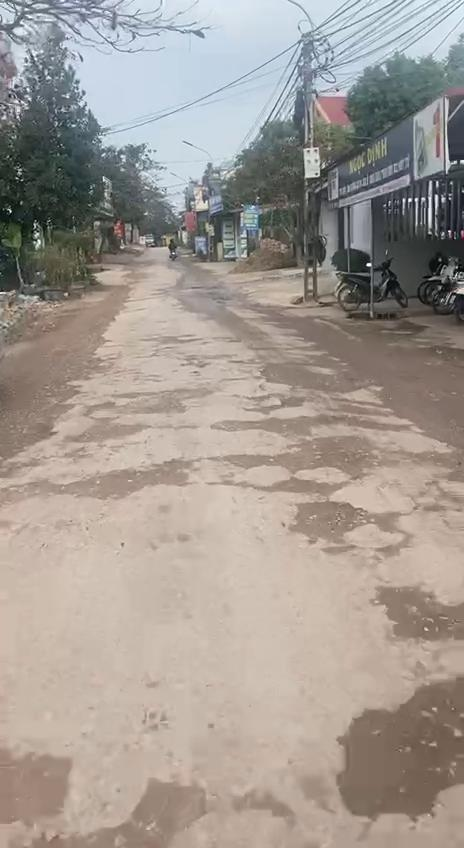pothole: (0, 743, 206, 848), (329, 672, 464, 830), (203, 408, 381, 494), (63, 382, 209, 445), (286, 495, 416, 560), (0, 457, 196, 500), (253, 356, 371, 408), (375, 579, 464, 644)
